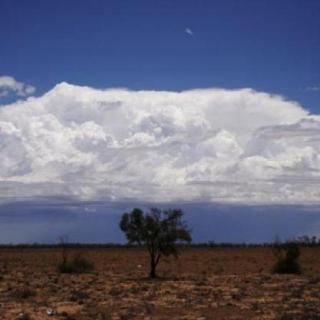Cumulonimbus: (0, 72, 320, 210)
